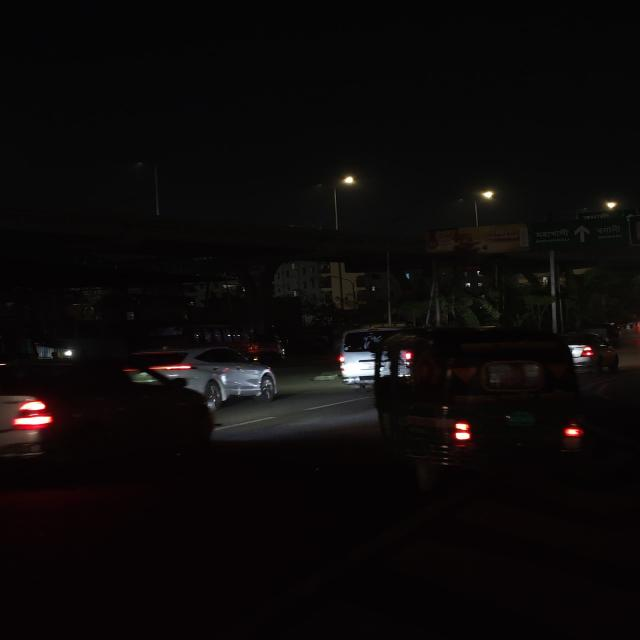car: (176, 348, 285, 412), (328, 330, 395, 388), (578, 325, 618, 376)
cng: (392, 329, 575, 475)
